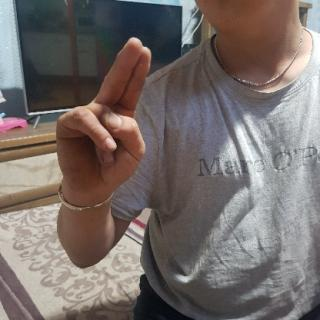TA: (58, 32, 156, 201)
